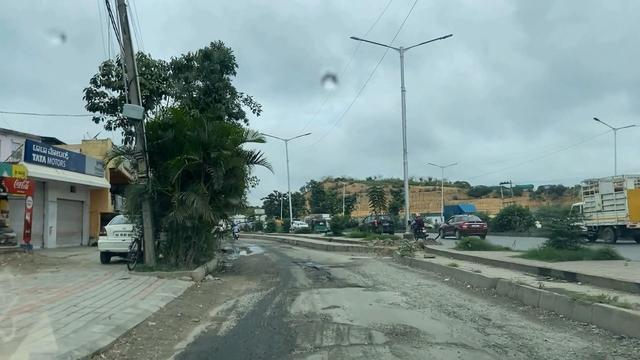RoadDamages: (417, 304, 634, 360), (288, 311, 416, 360), (290, 256, 376, 311)
